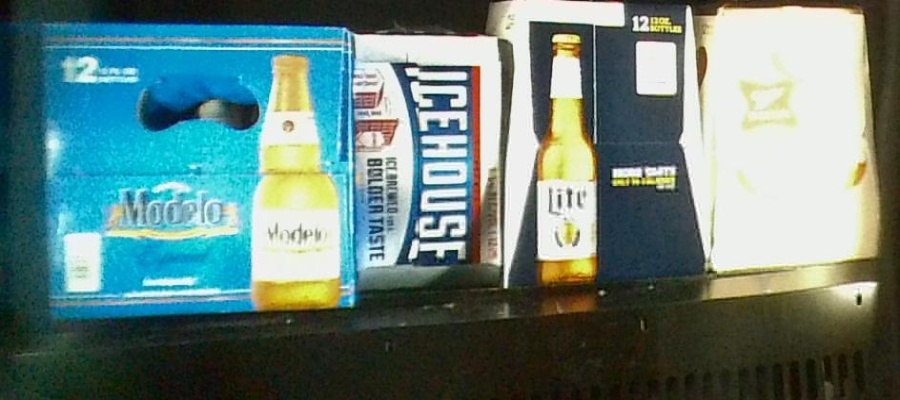bottle: (4, 19, 355, 310), (500, 1, 704, 279), (705, 5, 884, 263), (353, 31, 498, 288)
